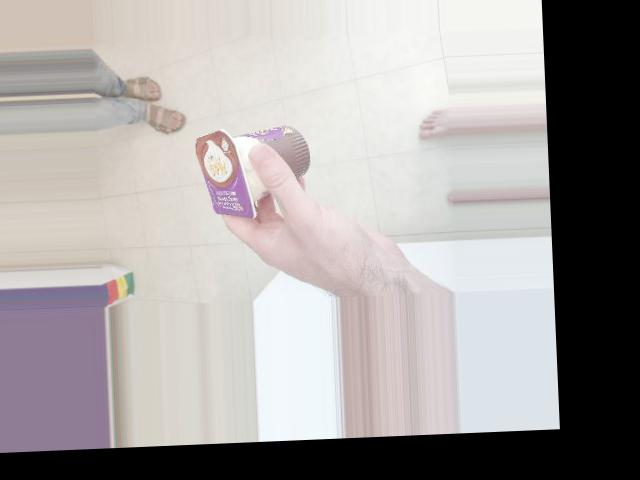milky: (181, 68, 272, 202)
